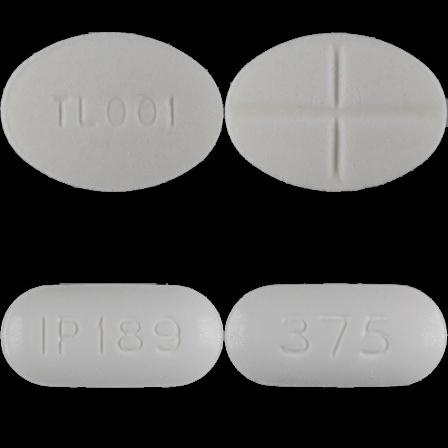21695-080: (0, 0, 224, 224)
